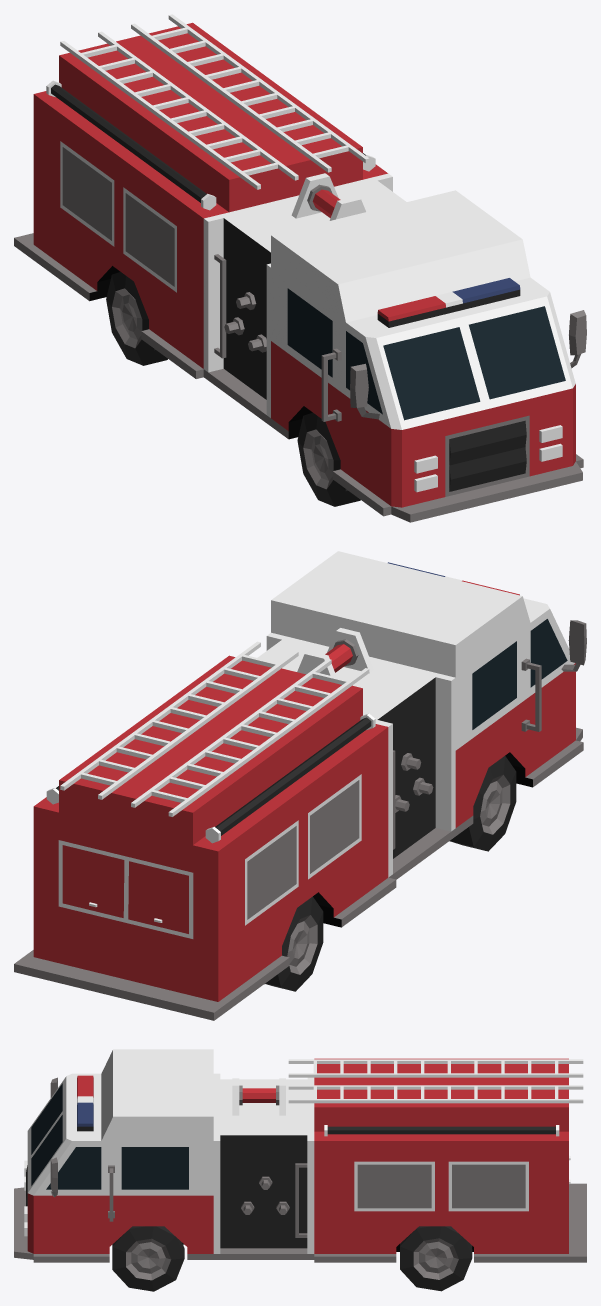
Rendered from firetruck.glb.
3 renders of one model, top to bottom at view 1: azimuth 30°, elevation 25°; view 2: azimuth 150°, elevation 25°; view 3: azimuth 270°, elevation 25°, orthographic. The views are drawn at different scales.
Visible parts, largest first — view 1: firetruck-base, firetruckwheel_FR, firetruck-wheel_BR; view 2: firetruck-base, firetruckwheel_FR, firetruck-wheel_BR; view 3: firetruck-base, firetruck-wheel_FL, firetruck-wheel_BL.
Part boxes in pixels (x1,y1,x2,y2): firetruck-base: (14, 14, 586, 522); firetruckwheel_FR: (297, 412, 360, 506); firetruck-wheel_BR: (106, 272, 167, 365); firetruck-base: (14, 551, 586, 1020); firetruckwheel_FR: (449, 756, 516, 851); firetruck-wheel_BR: (264, 896, 323, 991); firetruck-base: (14, 1049, 586, 1262); firetruck-wheel_FL: (112, 1226, 184, 1291); firetruck-wheel_BL: (400, 1226, 472, 1291).
Bounding box in the file's own units: 3.02 × 2.97 × 8.54.
1 material, 1 textured.
